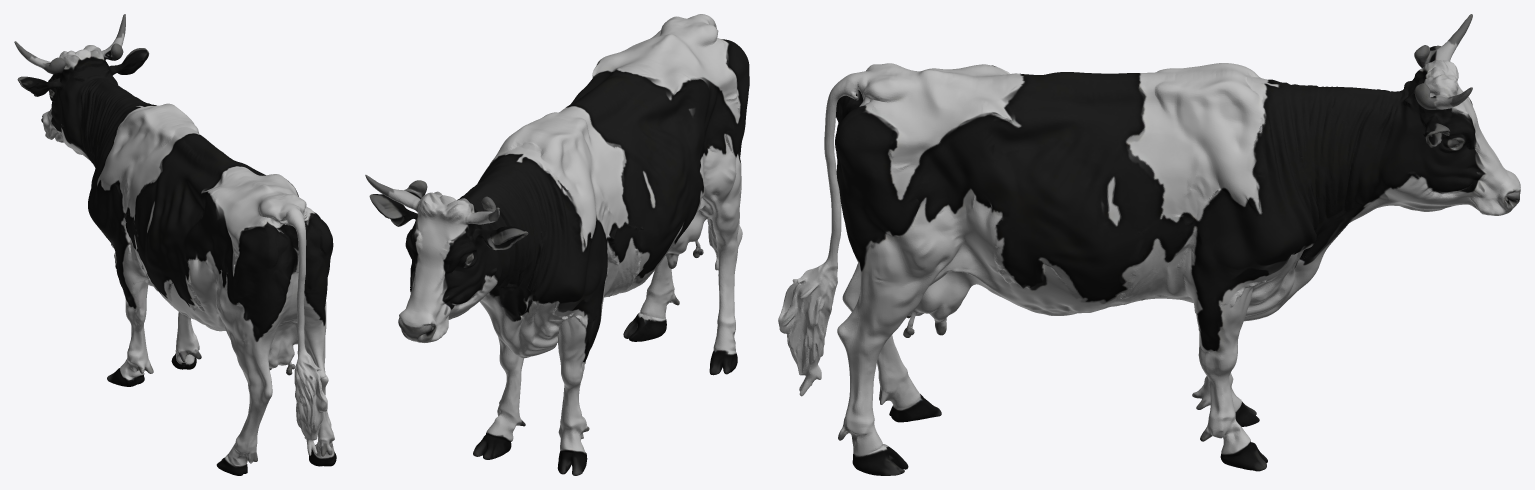
File: Cow.glb
3 views of the same model, side by side, from view 1: azimuth 30°, elevation 25°; view 2: azimuth 150°, elevation 25°; view 3: azimuth 270°, elevation 25° (orthographic). The views are drawn at different scales.
Visible parts, largest first — view 1: tripo_node_6ad86ca5-6093-473d-acb6-5eef66be3fba; view 2: tripo_node_6ad86ca5-6093-473d-acb6-5eef66be3fba; view 3: tripo_node_6ad86ca5-6093-473d-acb6-5eef66be3fba.
Boxes of the visible parts, x1,y1,x2,y2 form: tripo_node_6ad86ca5-6093-473d-acb6-5eef66be3fba: (14,14,336,475); tripo_node_6ad86ca5-6093-473d-acb6-5eef66be3fba: (365,14,749,475); tripo_node_6ad86ca5-6093-473d-acb6-5eef66be3fba: (778,14,1520,475).
Size of the model in its own units: 0.2756 by 0.5837 by 1.
1 material, 1 textured.
